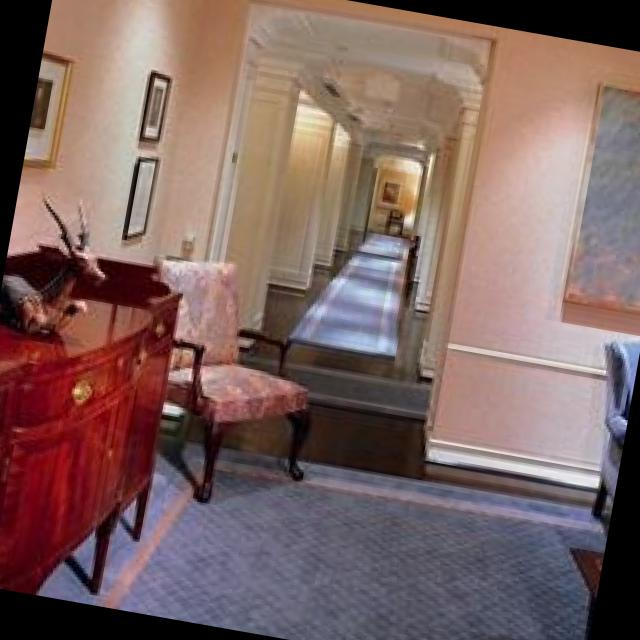arm rest: (154, 253, 310, 500), (591, 338, 639, 517)
doorway: (205, 0, 492, 452)
dressor: (0, 242, 177, 590)
figurine -X: (0, 197, 102, 331)
painting crop: (561, 80, 640, 308), (23, 50, 71, 163), (134, 66, 173, 139), (119, 153, 154, 234), (374, 171, 404, 207)
rug -partially obscured-: (287, 230, 408, 353)
